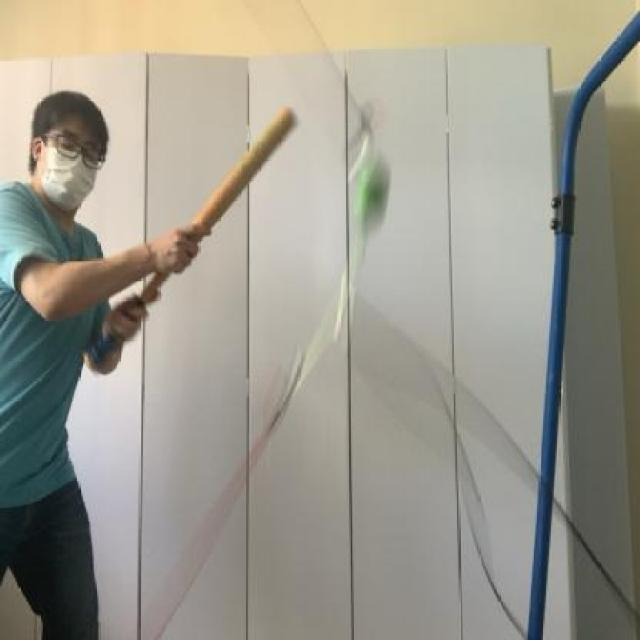baseball: (341, 146, 394, 228)
